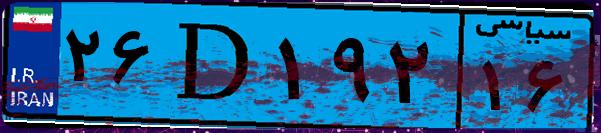1: (270, 28, 330, 110), (475, 38, 525, 113)
2: (385, 28, 445, 110), (57, 26, 110, 100)
6: (525, 38, 570, 115), (110, 28, 158, 98)
9: (330, 28, 385, 110)
D: (158, 12, 270, 120)
